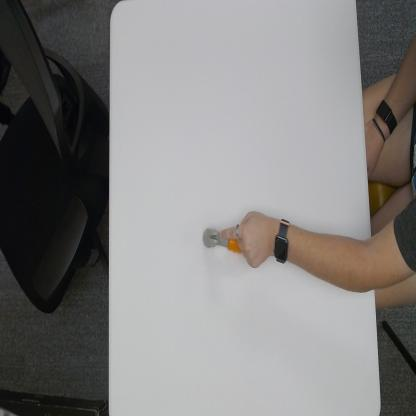Arm: (290, 221, 378, 295)
Hammer: (202, 224, 242, 255)
Hand: (220, 208, 274, 267)
